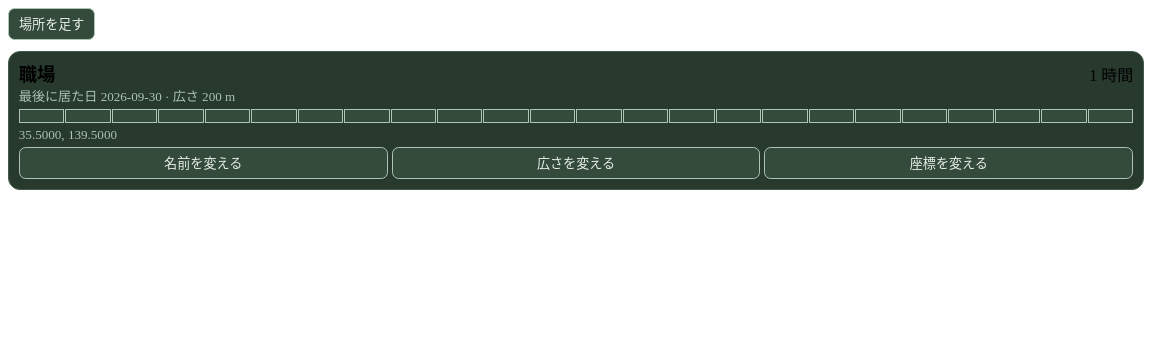
Test case: places-change: 名前を変える › 断られると種別の文が出て入力が残る
This screenshot has width=1152, height=351.
Click the button "名前を変える" at (203, 163), box [19, 147, 388, 179]
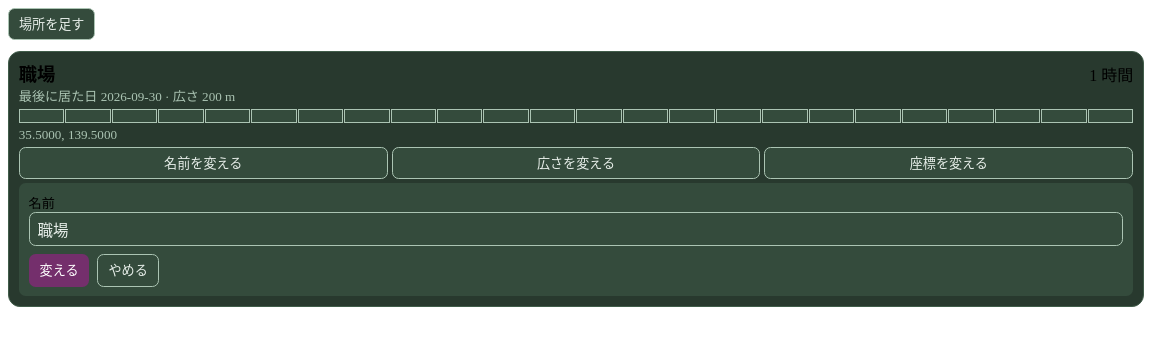
Replace the text in the field labelled "名前" with "本社" at (576, 229), box [29, 212, 1123, 246]
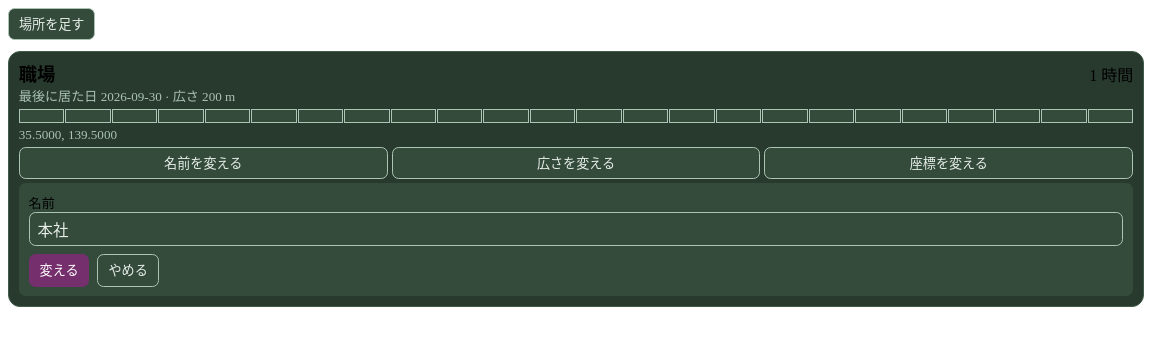
Click the button "変える" at (59, 270), box [29, 254, 90, 287]
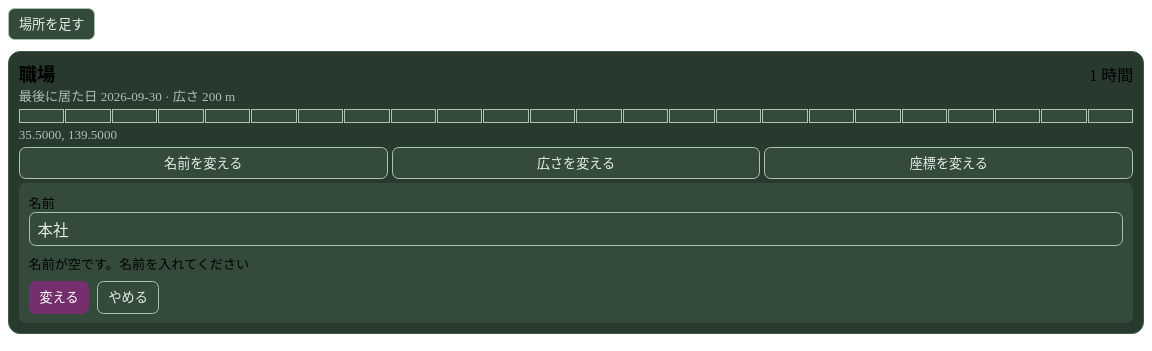
expect the message with test id "place-problem" reads "名前が空です。名前を入れてください": met, box [29, 257, 249, 272]
